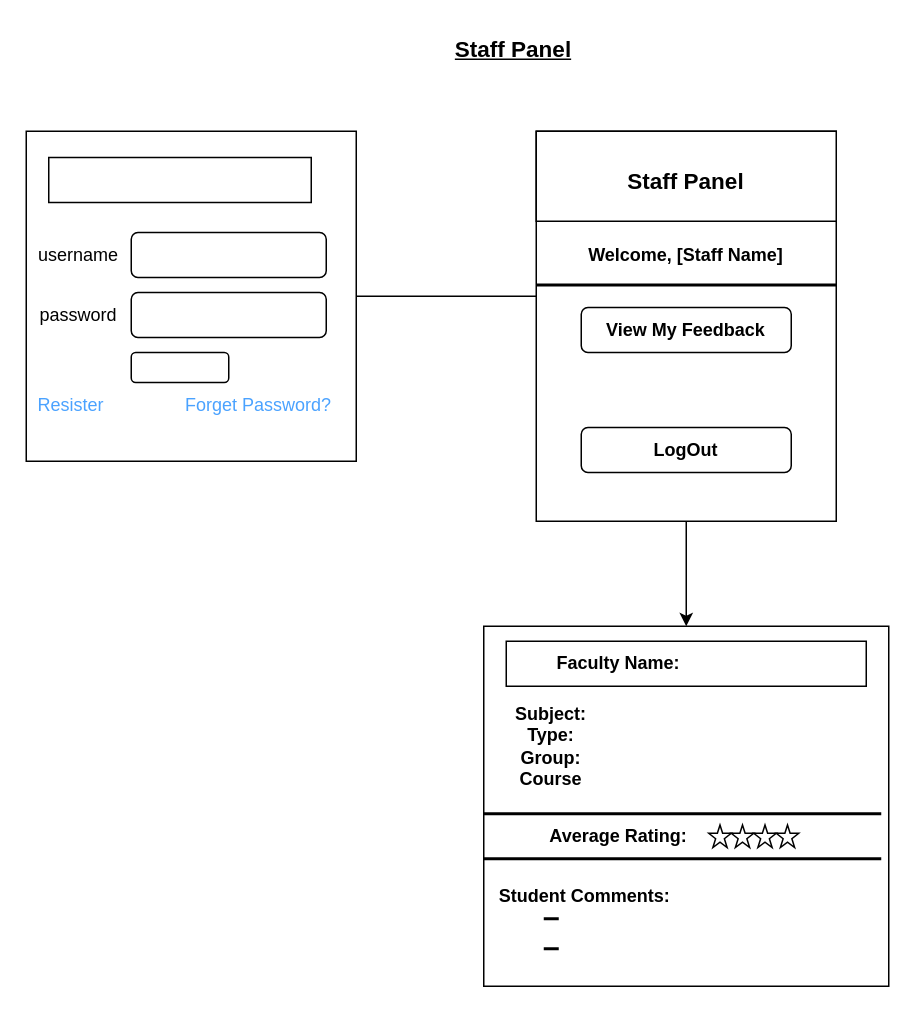
The diagram is 915 pixels wide and 1013 high, and some of its shapes have lost their labels. Here are the shapes that lost their labels. From the top down, the centre of each, then its label:
At [179,179]: "Feedback System".
At [179,366]: "Login".
